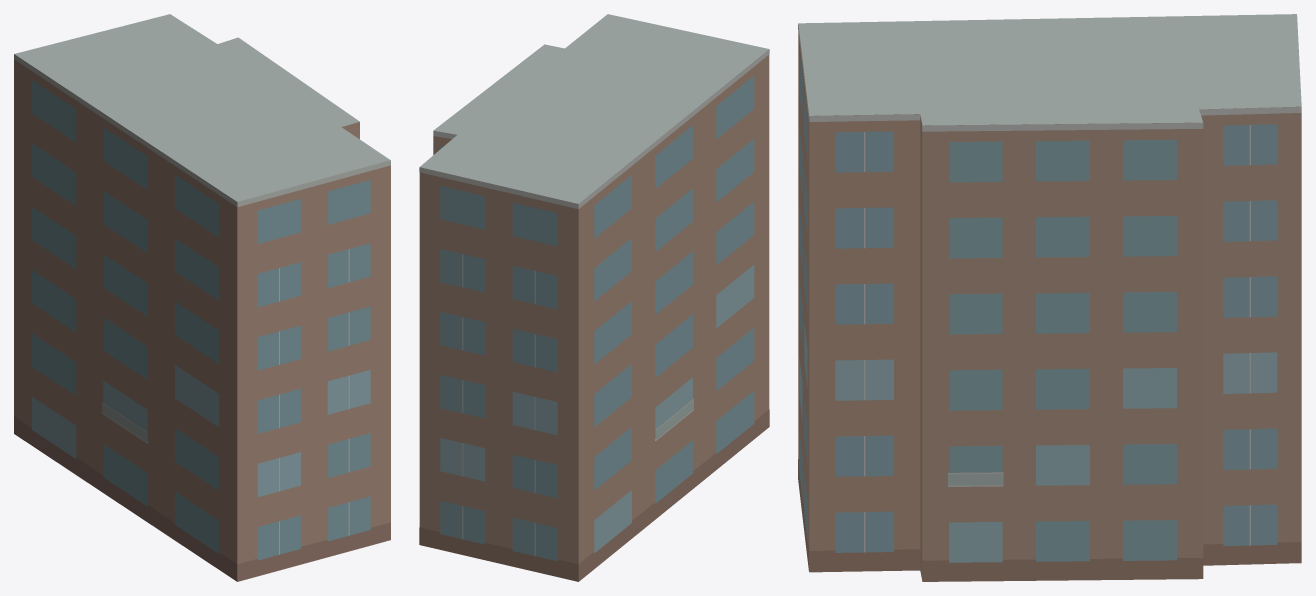
File: survey-upis-32738357.glb
3 views of the same model, side by side, from view 1: azimuth 30°, elevation 25°; view 2: azimuth 150°, elevation 25°; view 3: azimuth 270°, elevation 25° (orthographic). The views are drawn at different scales.
Visible parts, largest first — view 1: survey-upis-32738357.tmp; view 2: survey-upis-32738357.tmp; view 3: survey-upis-32738357.tmp.
Boxes of the visible parts, x1,y1,x2,y2 form: survey-upis-32738357.tmp: (14,14,390,581); survey-upis-32738357.tmp: (419,14,769,581); survey-upis-32738357.tmp: (798,14,1301,581).
Bounding box in the file's own units: 9.35 × 17.8 × 17.81.
